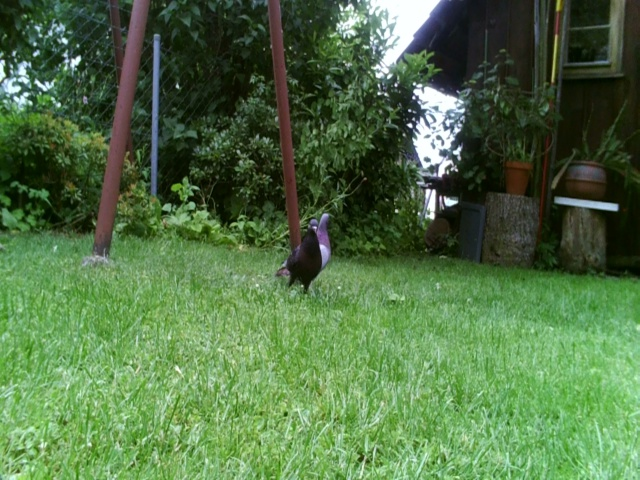Pigeon: (280, 220, 322, 292), (315, 212, 332, 264)
